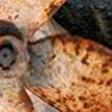rust: (52, 32, 108, 57), (34, 85, 77, 109), (79, 73, 112, 92), (43, 1, 63, 16)
